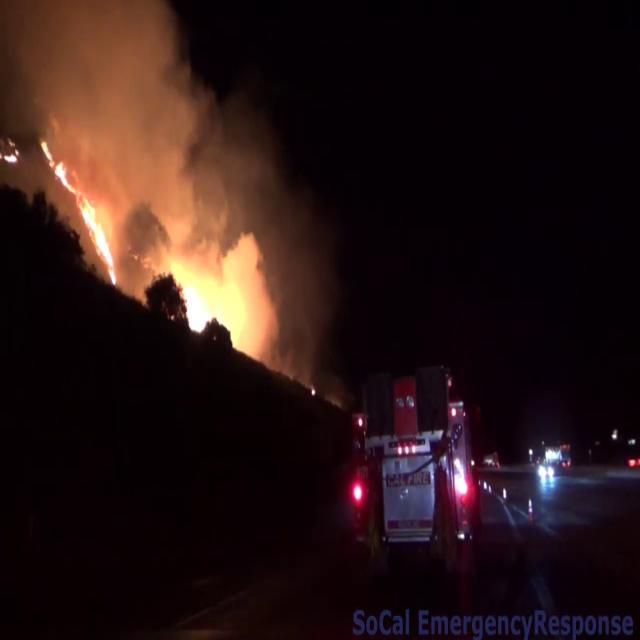Fire: (156, 210, 252, 354), (43, 124, 124, 287)
Smoke: (0, 0, 270, 211)
